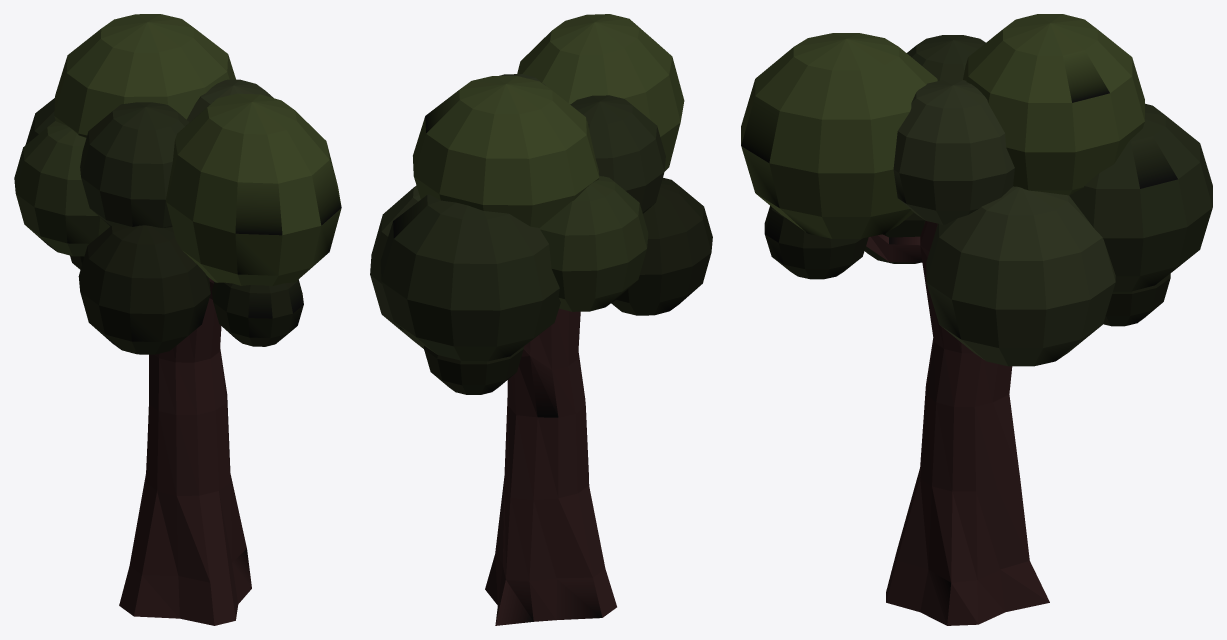
The model's file is oak_young.gltf.
3 views of the same model, side by side, from view 1: azimuth 30°, elevation 25°; view 2: azimuth 150°, elevation 25°; view 3: azimuth 270°, elevation 25° (orthographic). The views are drawn at different scales.
Parts seen in each view (by area): view 1: OakYoung; view 2: OakYoung; view 3: OakYoung.
Part boxes in pixels (<box>): OakYoung: <box>14,14,341,625</box>; OakYoung: <box>370,14,712,625</box>; OakYoung: <box>741,14,1212,625</box>.
Size of the model in its own units: 1.14 by 2.25 by 1.68.
Materials: 1 (1 with a texture image).
